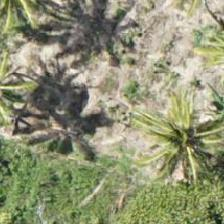coconut_tree: (144, 95, 223, 185)
